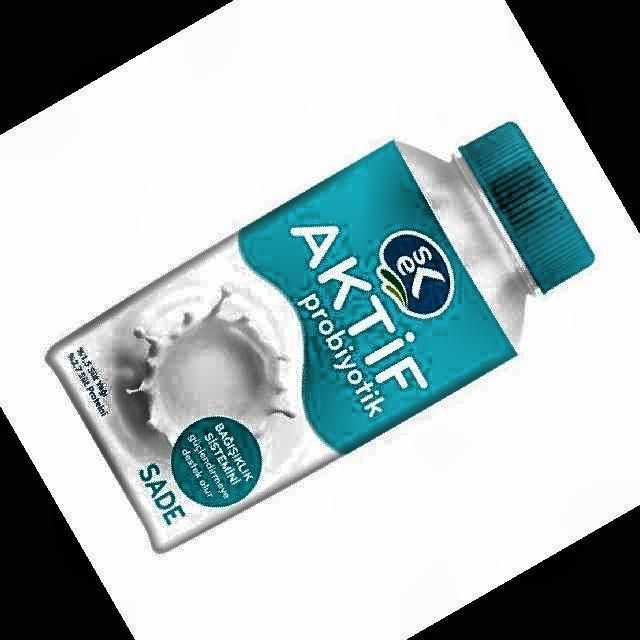plastic: (49, 122, 594, 552)
